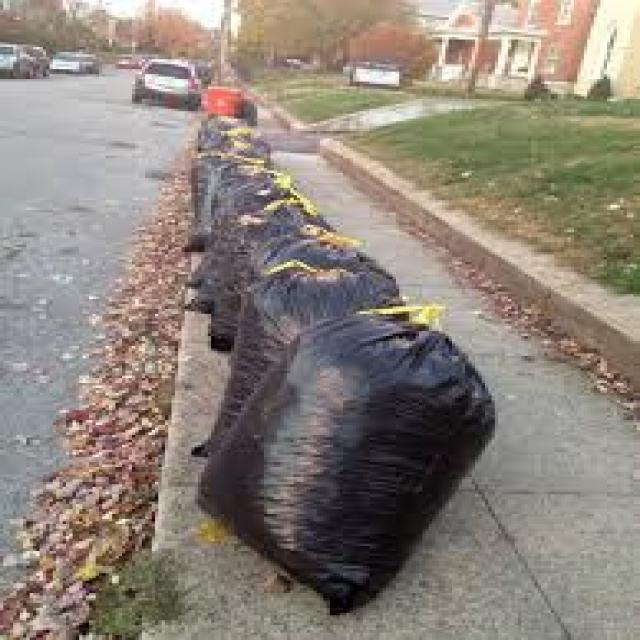plastic_bag: (222, 310, 496, 606), (219, 261, 420, 355), (186, 206, 331, 310), (192, 169, 311, 248)
